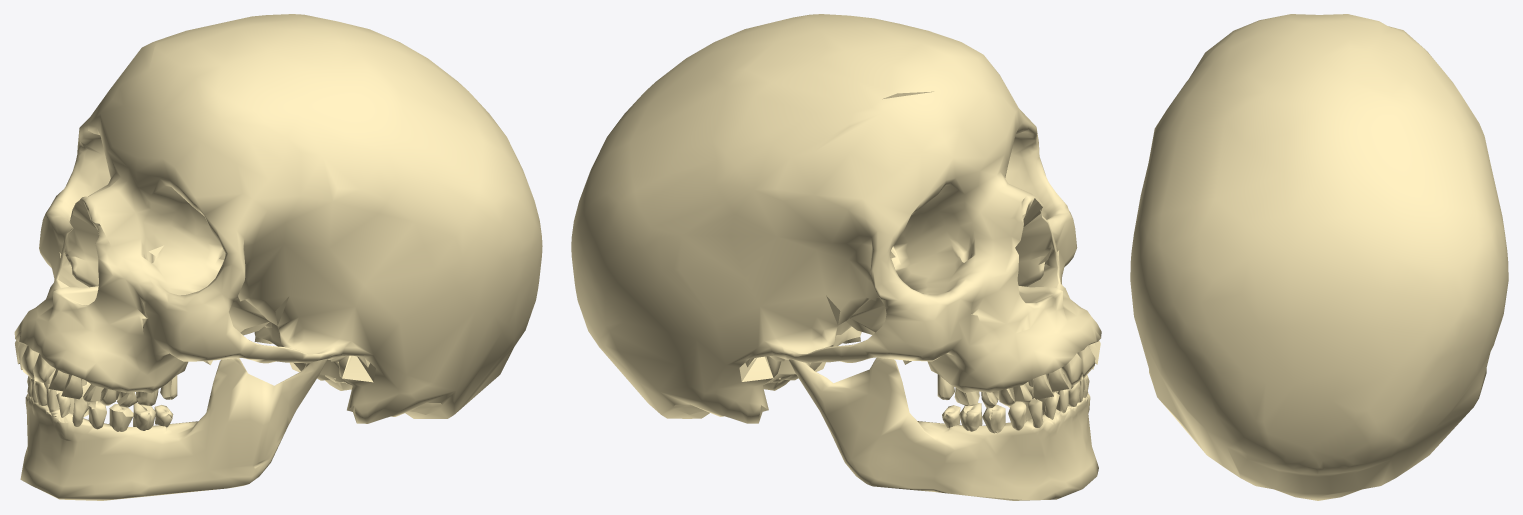
The model's file is Human_Skull.FBX.
3 views of the same model, side by side, from view 1: azimuth 30°, elevation 25°; view 2: azimuth 150°, elevation 25°; view 3: azimuth 270°, elevation 25° (orthographic). The views are drawn at different scales.
Parts seen in each view (by area): view 1: Human_Skull; view 2: Human_Skull; view 3: Human_Skull.
Boxes of the visible parts, box(x1,y1,x2,y2) form: Human_Skull: box(14, 14, 542, 500); Human_Skull: box(571, 14, 1101, 500); Human_Skull: box(1130, 14, 1508, 500).
Bounding box in the file's own units: 25.09 × 19.66 × 17.9.
